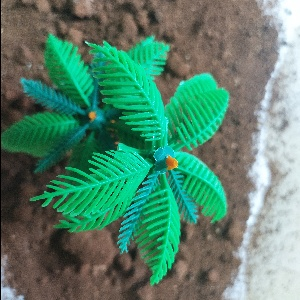plant: (61, 46, 233, 286), (9, 32, 112, 172)
